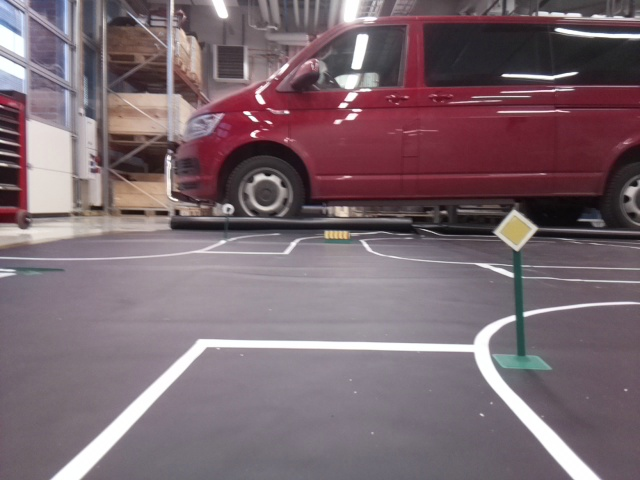Priority: (495, 209, 539, 249)
